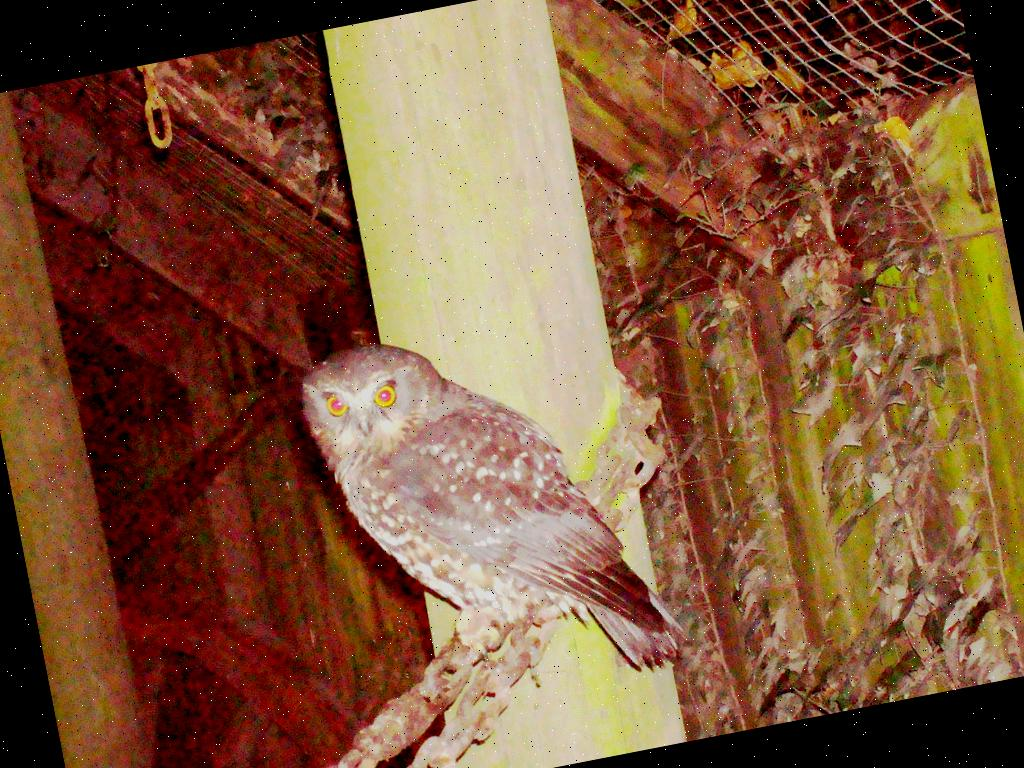Owl: (293, 296, 694, 725)
